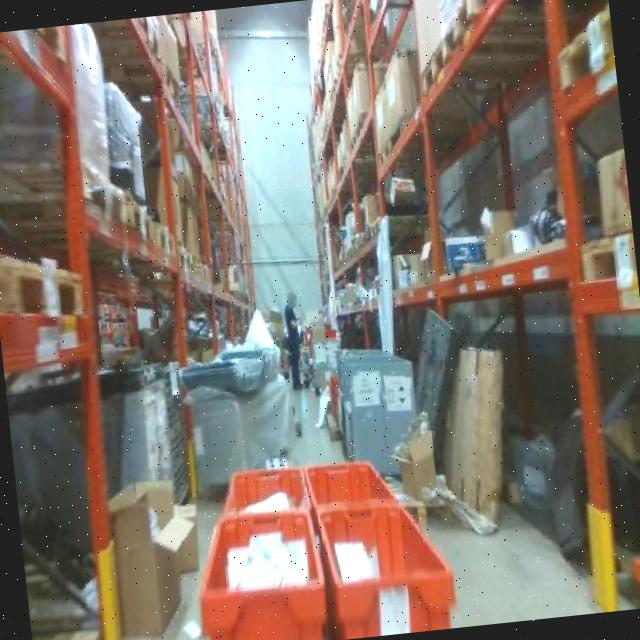pallet: (0, 249, 91, 326), (552, 10, 618, 91), (573, 224, 638, 295), (437, 0, 490, 65), (415, 21, 454, 99)
